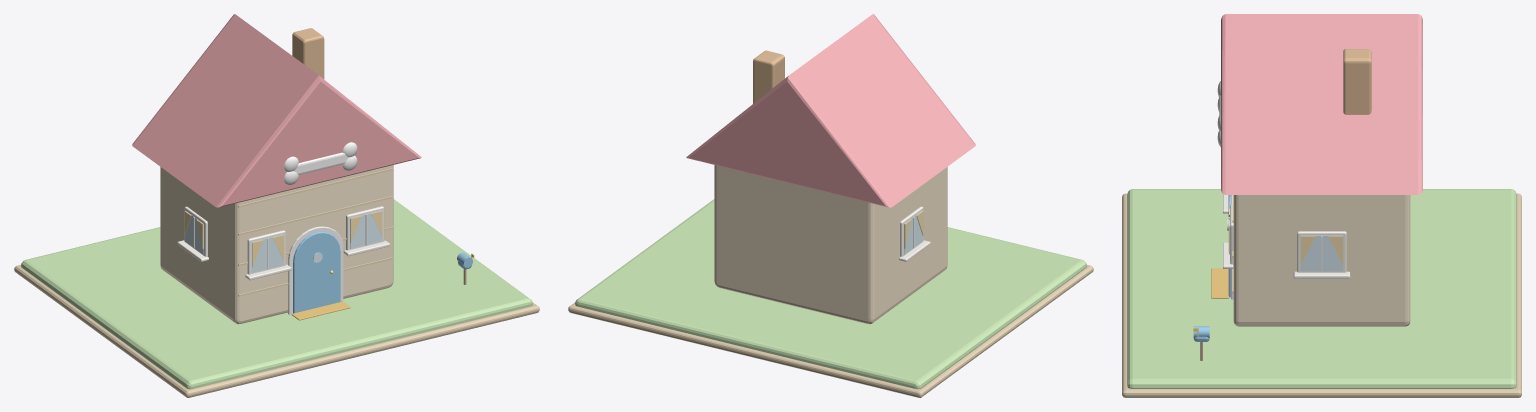
File: building_pets_L06.glb
3 views of the same model, side by side, from view 1: azimuth 30°, elevation 25°; view 2: azimuth 150°, elevation 25°; view 3: azimuth 270°, elevation 25° (orthographic). The views are drawn at different scales.
Visible parts, largest first — view 1: Body, pets_L6; view 2: Body, pets_L6; view 3: Body, pets_L6.
Boxes of the visible parts, bbox=[...] form: Body: bbox=[132, 14, 421, 324]; pets_L6: bbox=[14, 199, 539, 397]; Body: bbox=[686, 14, 975, 324]; pets_L6: bbox=[568, 199, 1093, 397]; Body: bbox=[1211, 14, 1422, 326]; pets_L6: bbox=[1122, 189, 1521, 397].
Bounding box in the file's own units: 26.61 × 17.82 × 22.6.
